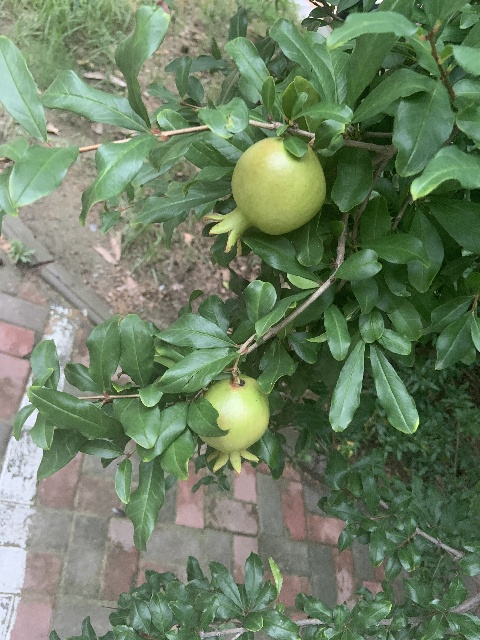mid-growth: (202, 137, 325, 257), (198, 376, 269, 474)
